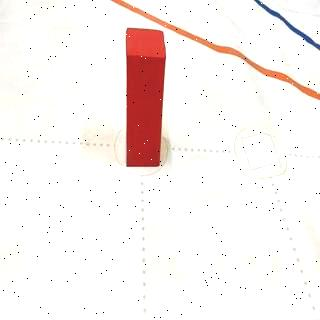redbox: (126, 27, 165, 167)
